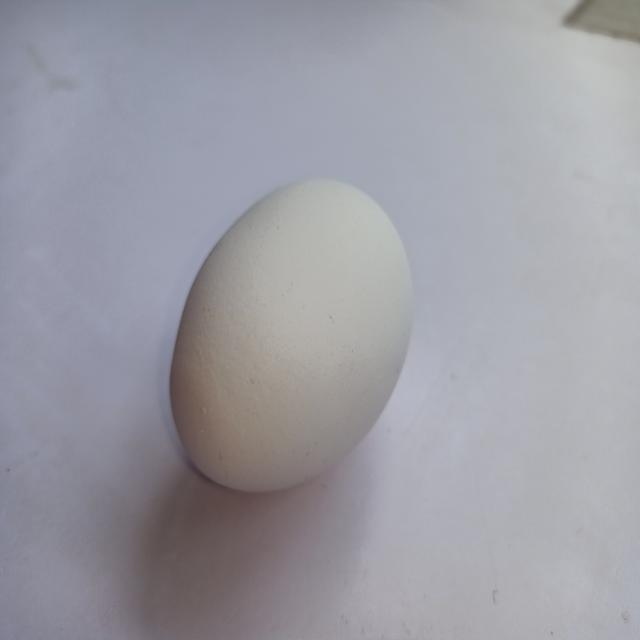Egg: (153, 150, 446, 547)
